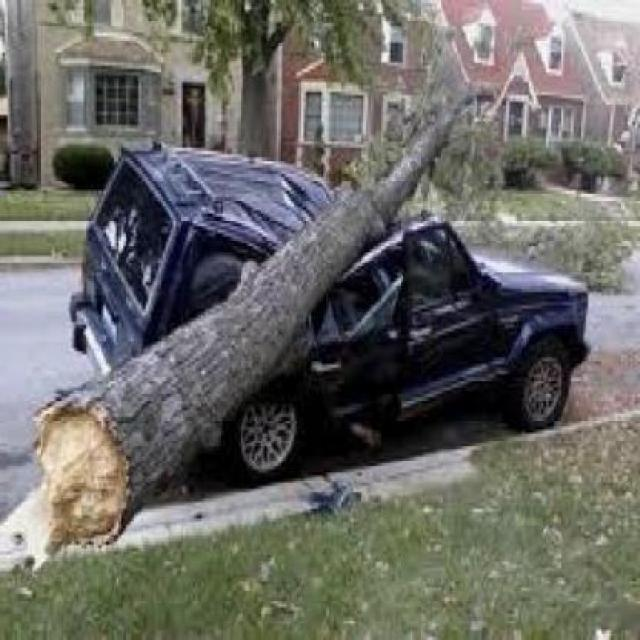damage: (253, 155, 485, 438)
